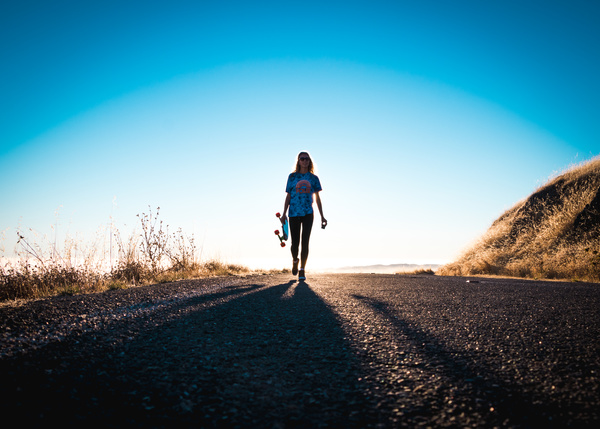Person: (271, 147, 328, 282)
